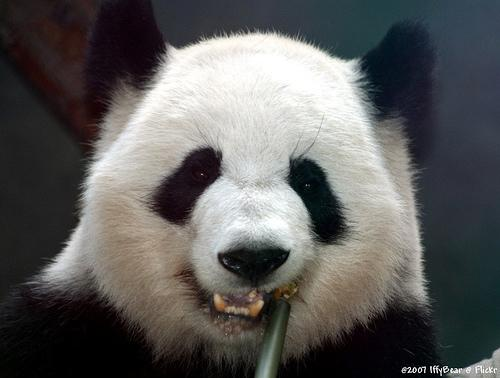panda: (0, 0, 436, 377)
